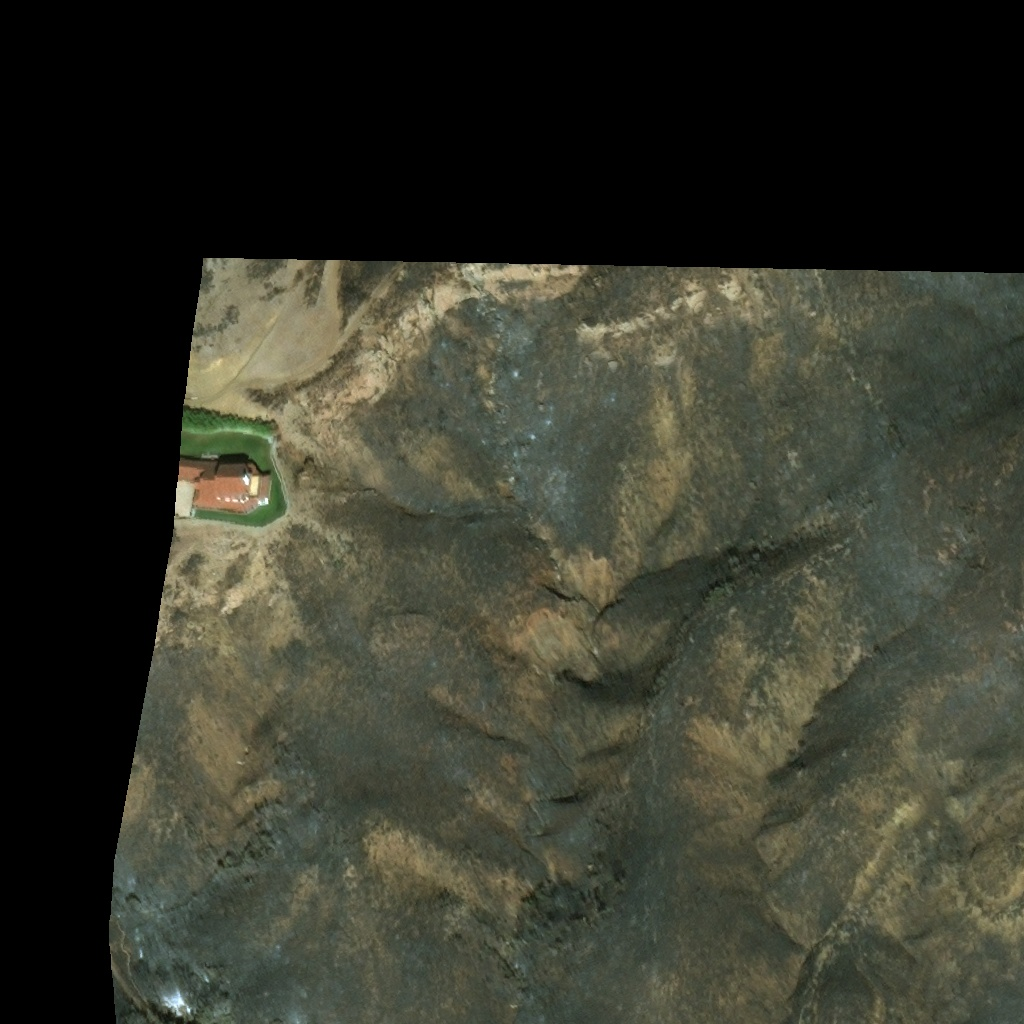0 no-damage: (175, 457, 270, 513)
